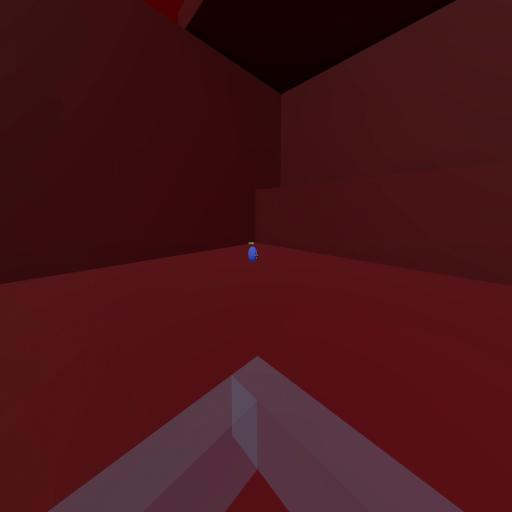Crosshair: (254, 252, 259, 261)
Target: (248, 246, 257, 264)
